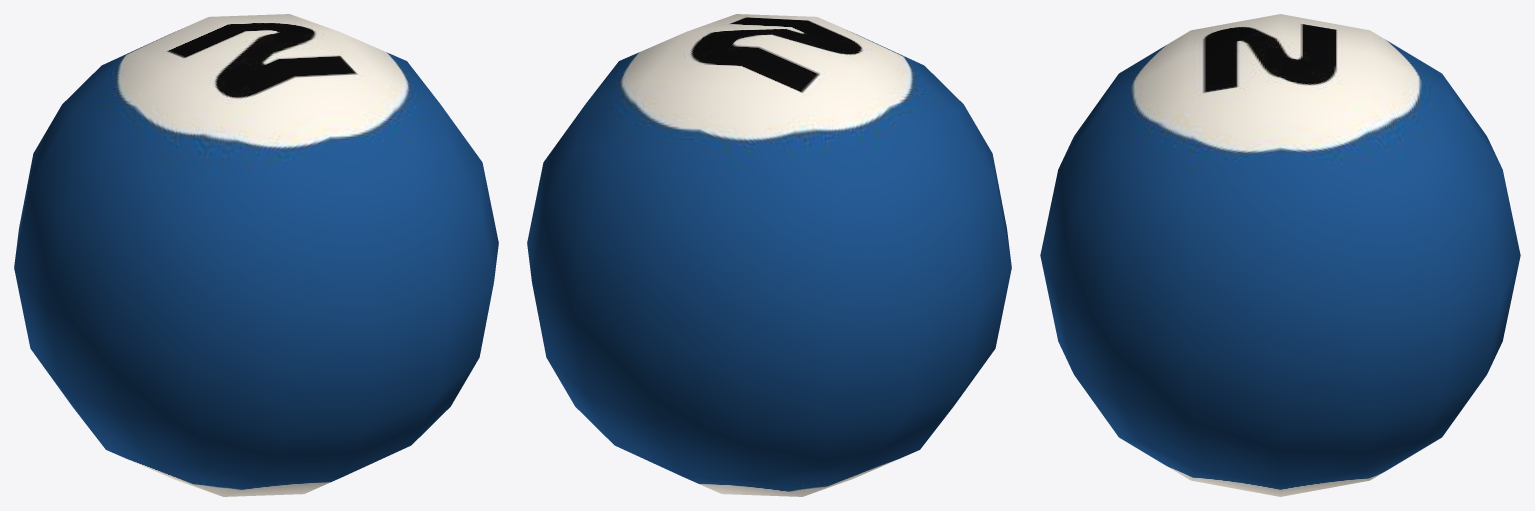
The model's file is ball_02.fbx.
The picture shows the model from 3 angles, left to right: view 1: azimuth 30°, elevation 25°; view 2: azimuth 150°, elevation 25°; view 3: azimuth 270°, elevation 25°; orthographic projection.
Visible parts, largest first — view 1: BilliardBall.002; view 2: BilliardBall.002; view 3: BilliardBall.002.
Part boxes in pixels (<box>): BilliardBall.002: <box>14,14,498,496</box>; BilliardBall.002: <box>527,14,1011,496</box>; BilliardBall.002: <box>1040,14,1520,496</box>.
Size of the model in its own units: 0.0753 by 0.0753 by 0.0753.
